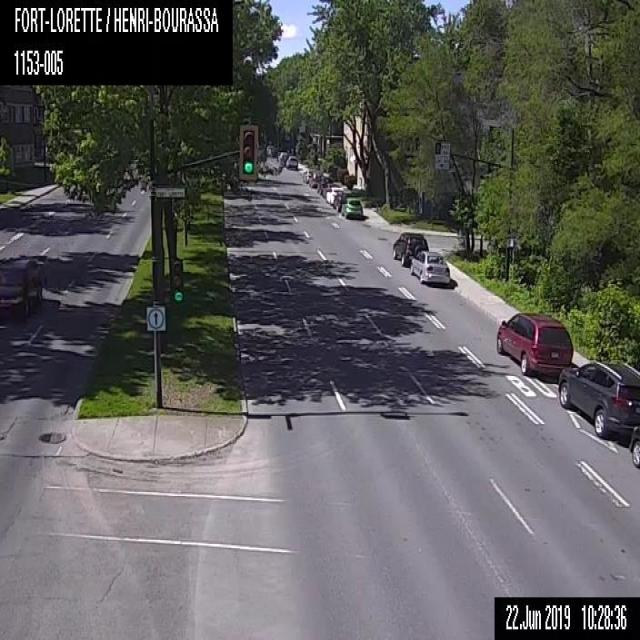vehicle: (556, 362, 639, 442), (496, 312, 574, 378), (0, 252, 43, 328), (410, 250, 451, 286), (391, 231, 428, 265), (626, 423, 639, 466), (332, 189, 354, 209), (343, 198, 364, 218), (326, 186, 343, 203), (316, 176, 332, 192), (308, 170, 322, 187), (285, 154, 299, 170), (322, 183, 336, 196), (276, 150, 287, 160), (279, 153, 287, 165), (302, 168, 308, 182), (266, 144, 273, 154), (269, 147, 277, 155)
